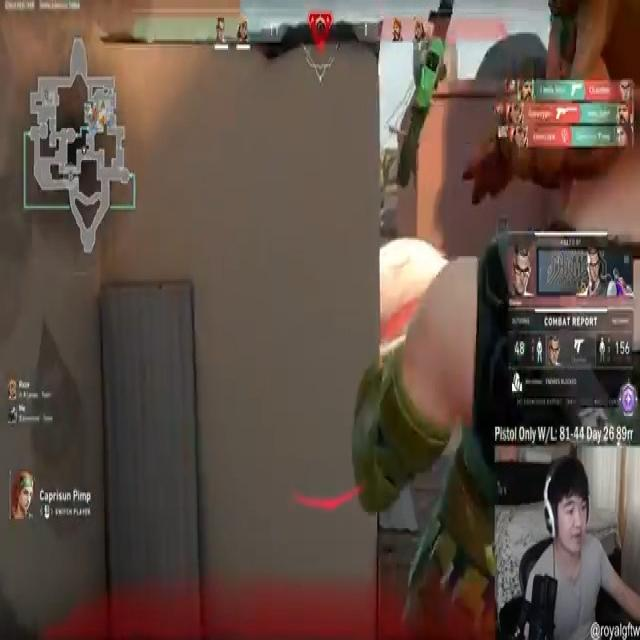ally: (351, 4, 640, 615)
